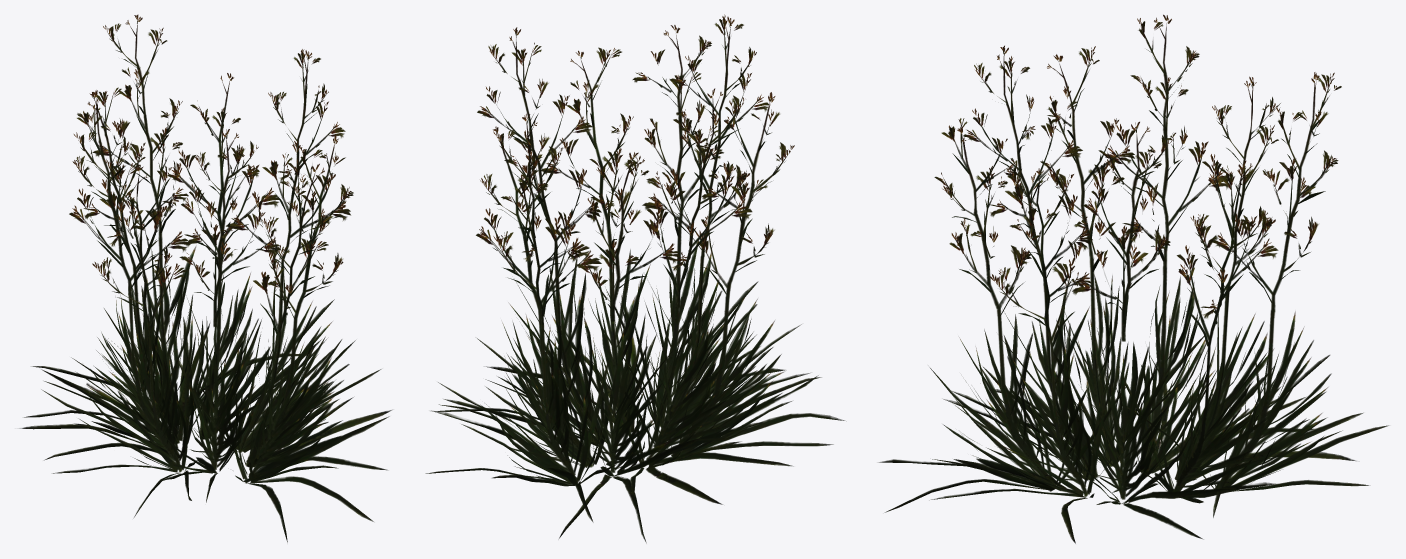
File: veg-77.glb
3 renders of one model, left to right at view 1: azimuth 30°, elevation 25°; view 2: azimuth 150°, elevation 25°; view 3: azimuth 270°, elevation 25°, orthographic. The views are drawn at different scales.
Visible parts, largest first — view 1: _5zwl_VarF_LOD1_77; view 2: _5zwl_VarF_LOD1_77; view 3: _5zwl_VarF_LOD1_77.
Part boxes in pixels (x1=…): _5zwl_VarF_LOD1_77: x1=19, y1=14, x2=391, y2=542; _5zwl_VarF_LOD1_77: x1=425, y1=14, x2=844, y2=543; _5zwl_VarF_LOD1_77: x1=878, y1=14, x2=1389, y2=543.
Bounding box in the file's own units: 0.7265 × 0.7806 × 0.864.
Materials: 1 (1 with a texture image).
